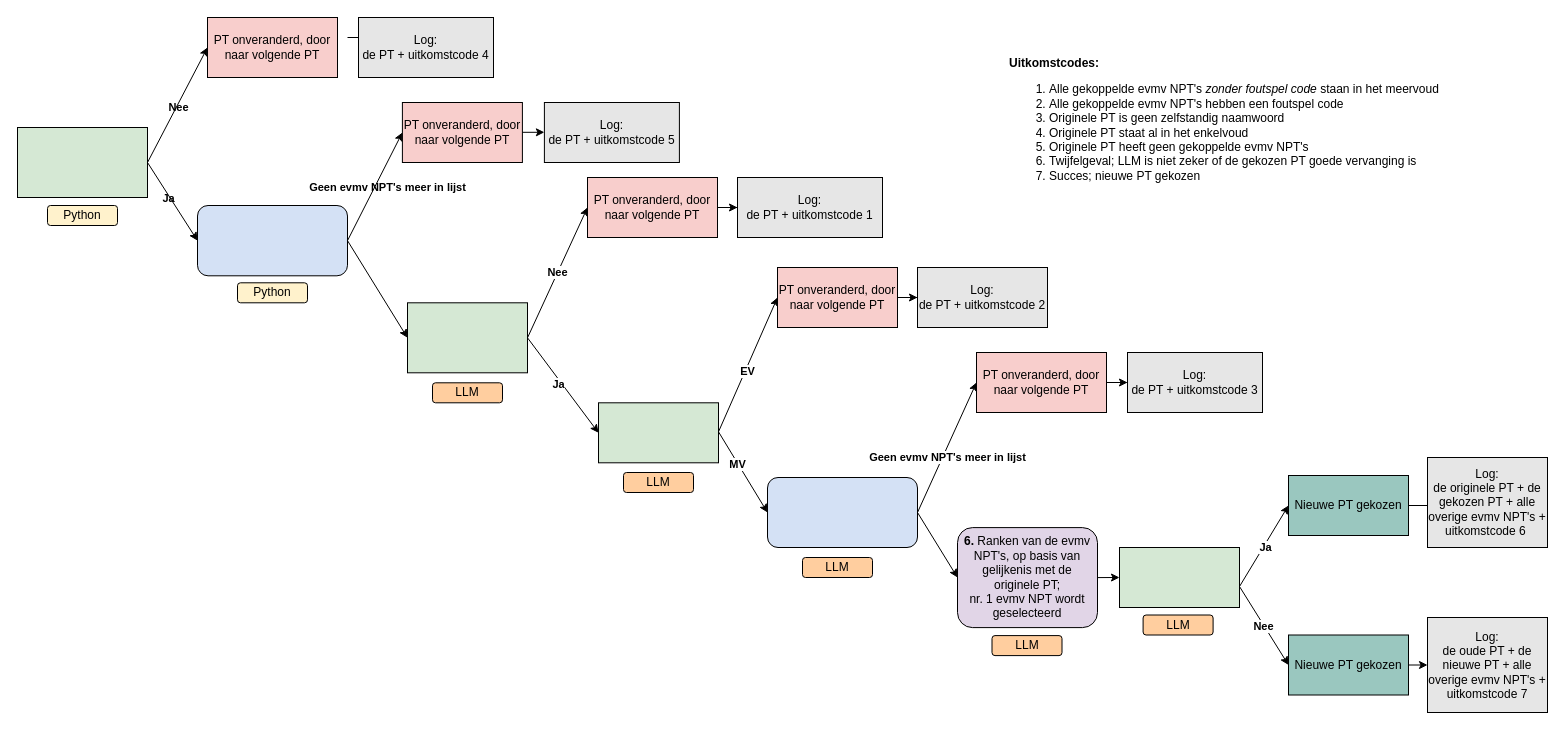
Some shapes in this 1565 by 730 pixel diagram are drawn without their labels. The shapes that lost their labels are listed below. From the top down, each one's centre as x and y in pixels, then its label:
At pixel 82 162: "1. Originele PT: heeft gekoppelde NPT's met evmv code?".
At pixel 272 240: "2. Filter: Alle evmv NPT's met een foutspel code uitfilteren".
At pixel 467 337: "3. Originele PT: Zelfstandig naamwoord?".
At pixel 658 432: "4. Originele PT: Enkelvoud of meervoud?".
At pixel 842 512: "5. Filter: Uitfilteren van eventuele evmv NPT's die in het meervoud staan.".
At pixel 1179 577: "7. Gekozen PT: Twijfelgeval?".
